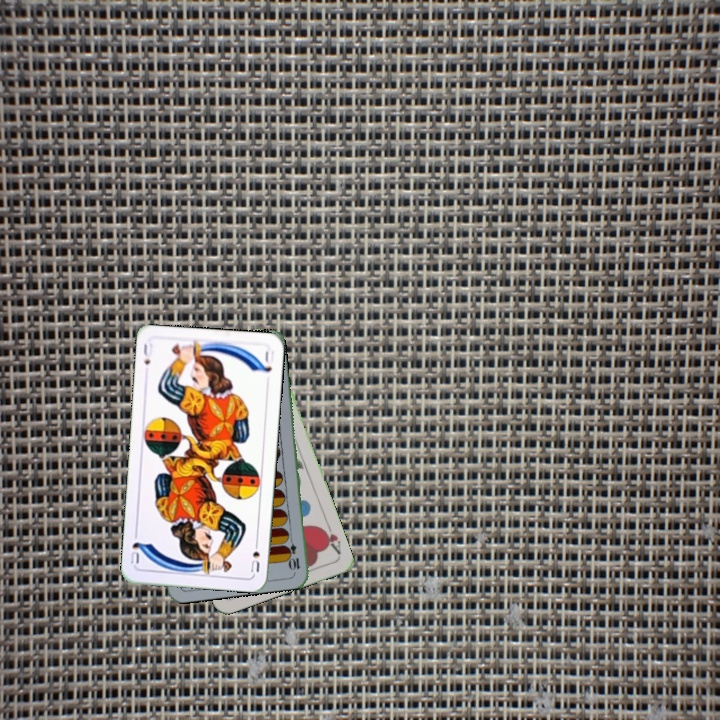E10: (284, 532, 302, 573)
HA: (317, 518, 343, 557)
SU: (247, 536, 262, 575), (139, 339, 155, 367)
